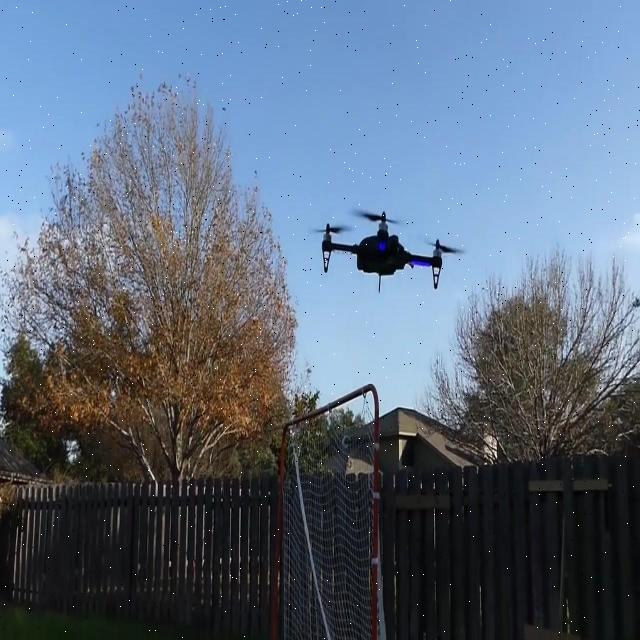UAV: (311, 209, 467, 294)
